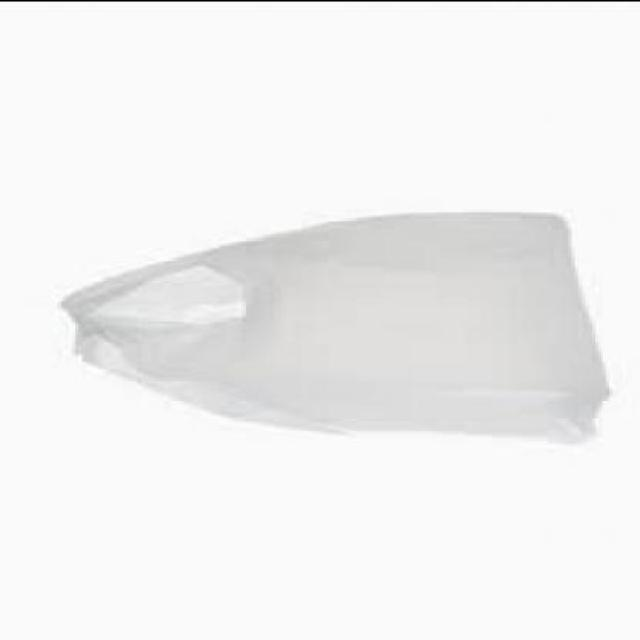PLASTIC: (59, 211, 606, 438)
